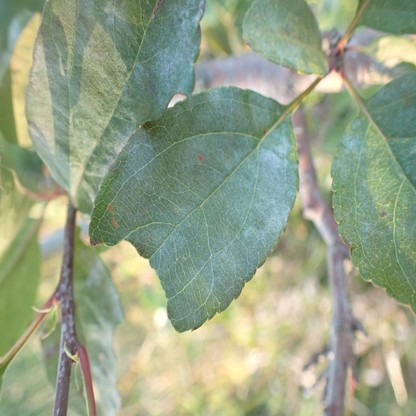powder: (89, 84, 300, 333), (26, 0, 205, 210), (331, 73, 415, 319), (242, 2, 328, 74)
rust: (41, 162, 48, 177), (198, 154, 204, 162)
